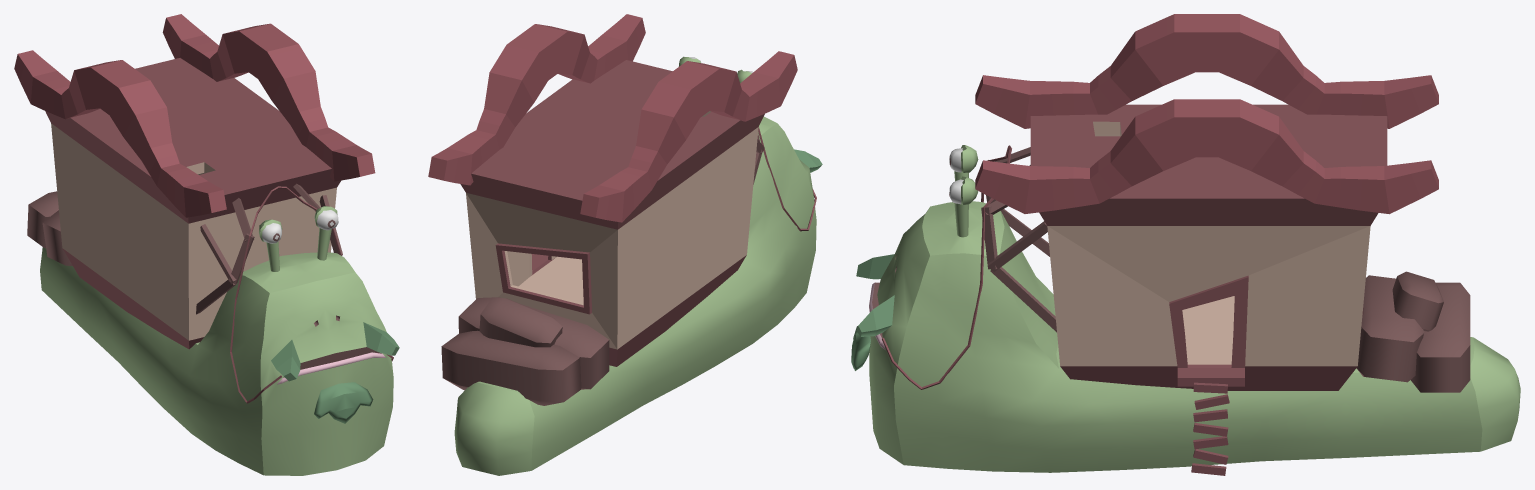
Rendered from Snail Car.fbx.
The picture shows the model from 3 angles, left to right: view 1: azimuth 30°, elevation 25°; view 2: azimuth 150°, elevation 25°; view 3: azimuth 270°, elevation 25°; orthographic projection. The views are drawn at different scales.
Visible parts, largest first — view 1: Cube, Cube.001, Plane.001, Cube.004, Plane.002, Cube.003, Cube.007, Cube.009, Cube.008, Cube.006; view 2: Cube.001, Cube, Plane.001, Cube.004, Cube.003, Cube.005; view 3: Cube, Cube.001, Plane.001, Cube.003, Cube.004, Cube.002, Cube.005, Cube.006, Plane.002, Cube.007.
Boxes of the visible parts, bbox=[...] form: Cube: bbox=[40, 206, 399, 475]; Cube.001: bbox=[45, 58, 341, 349]; Plane.001: bbox=[14, 14, 375, 217]; Cube.004: bbox=[27, 191, 58, 248]; Plane.002: bbox=[230, 186, 393, 403]; Cube.003: bbox=[42, 210, 72, 265]; Cube.007: bbox=[200, 195, 342, 284]; Cube.009: bbox=[232, 183, 320, 241]; Cube.008: bbox=[228, 229, 338, 284]; Cube.006: bbox=[196, 279, 236, 314]; Cube.001: bbox=[460, 60, 764, 366]; Cube: bbox=[454, 56, 822, 475]; Plane.001: bbox=[428, 14, 797, 222]; Cube.004: bbox=[441, 330, 581, 405]; Cube.003: bbox=[458, 297, 609, 389]; Cube.005: bbox=[479, 297, 562, 347]; Cube: bbox=[851, 145, 1520, 472]; Cube.001: bbox=[1030, 104, 1387, 390]; Plane.001: bbox=[975, 14, 1438, 214]; Cube.003: bbox=[1356, 275, 1423, 382]; Cube.004: bbox=[1411, 282, 1470, 392]; Cube.002: bbox=[1191, 382, 1229, 475]; Cube.005: bbox=[1392, 271, 1443, 331]; Cube.006: bbox=[990, 209, 1056, 332]; Plane.002: bbox=[882, 145, 1011, 389]; Cube.007: bbox=[987, 165, 1047, 271].
Size of the model in its own units: 1720 by 2735 by 4521.
